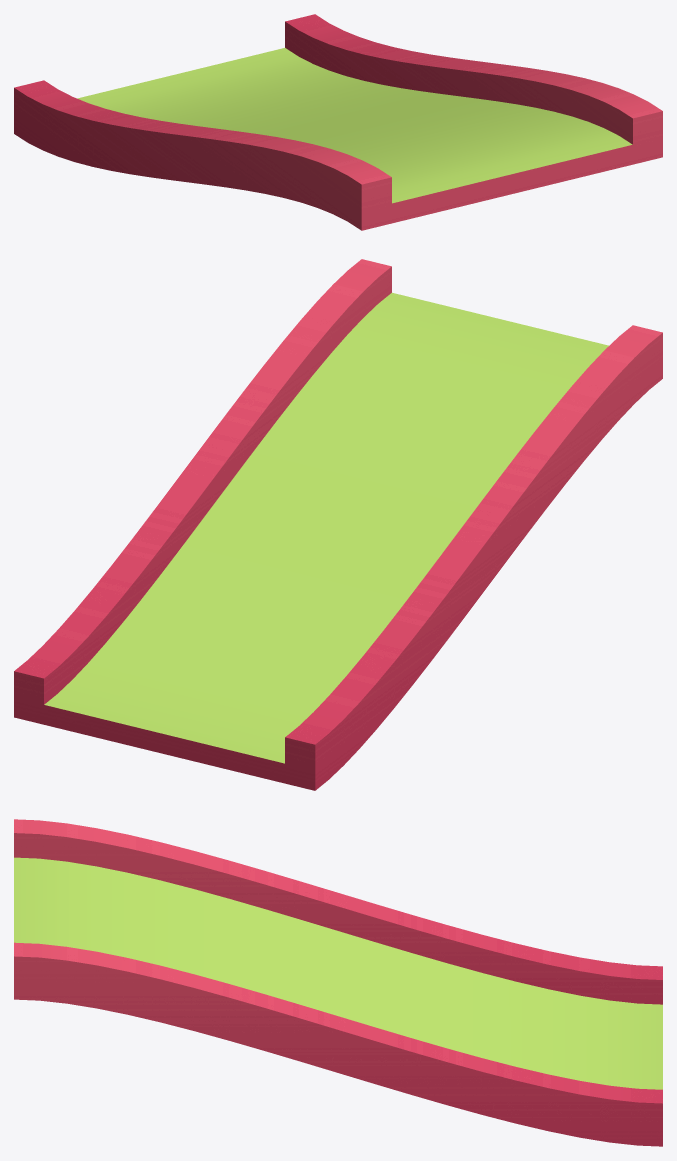
Rendered from ramp-large.glb.
3 renders of one model, top to bottom at view 1: azimuth 30°, elevation 25°; view 2: azimuth 150°, elevation 25°; view 3: azimuth 270°, elevation 25°, orthographic. The views are drawn at different scales.
Parts seen in each view (by area): view 1: ramp-large; view 2: ramp-large; view 3: ramp-large.
Part boxes in pixels (x1,y1,x2,y2): ramp-large: (14,14,662,230); ramp-large: (14,259,662,790); ramp-large: (14,819,662,1146).
Size of the model in its own units: 0.9999 by 0.6467 by 2.
Materials: 1 (1 with a texture image).
